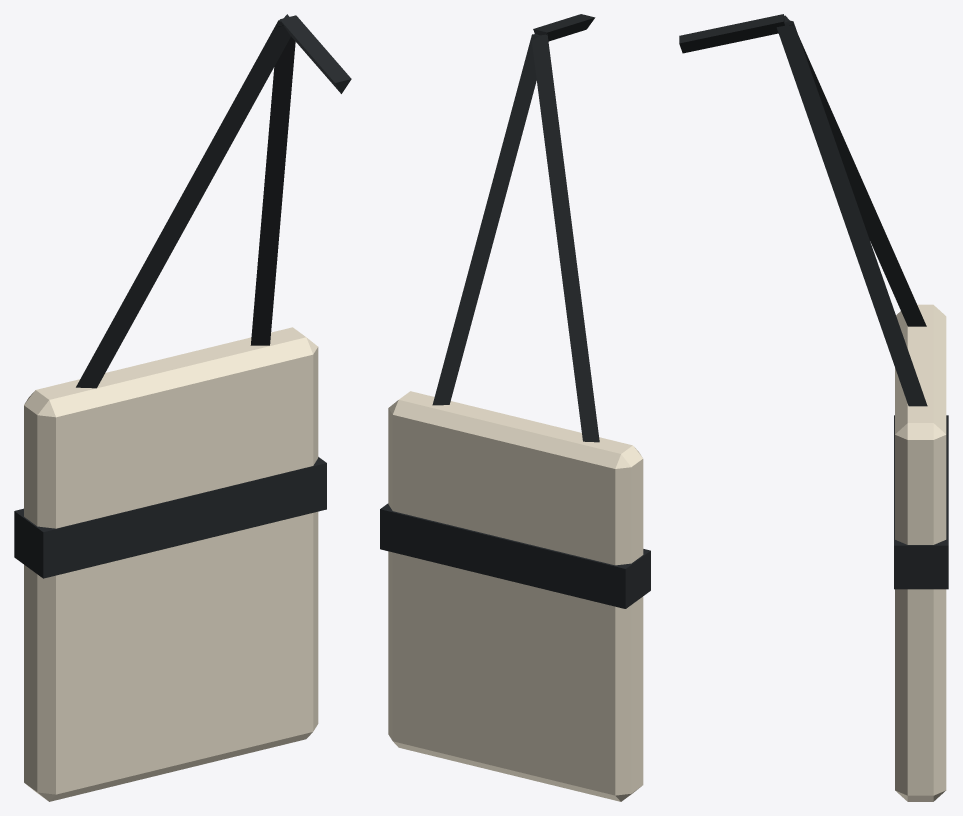
File: acc-subway-tote.glb
3 renders of one model, left to right at view 1: azimuth 30°, elevation 25°; view 2: azimuth 150°, elevation 25°; view 3: azimuth 270°, elevation 25°, orthographic. The views are drawn at different scales.
Parts seen in each view (by area): view 1: acc-subway-tote-0, acc-subway-tote-1; view 2: acc-subway-tote-0, acc-subway-tote-1; view 3: acc-subway-tote-0, acc-subway-tote-1.
Boxes of the visible parts, x1,y1,x2,y2 form: acc-subway-tote-0: (24, 327, 318, 801); acc-subway-tote-1: (14, 14, 351, 578); acc-subway-tote-0: (388, 391, 643, 801); acc-subway-tote-1: (380, 14, 650, 608); acc-subway-tote-0: (895, 304, 946, 801); acc-subway-tote-1: (679, 14, 948, 589).
Size of the model in its own units: 0.192 by 0.5114 by 0.1676.
